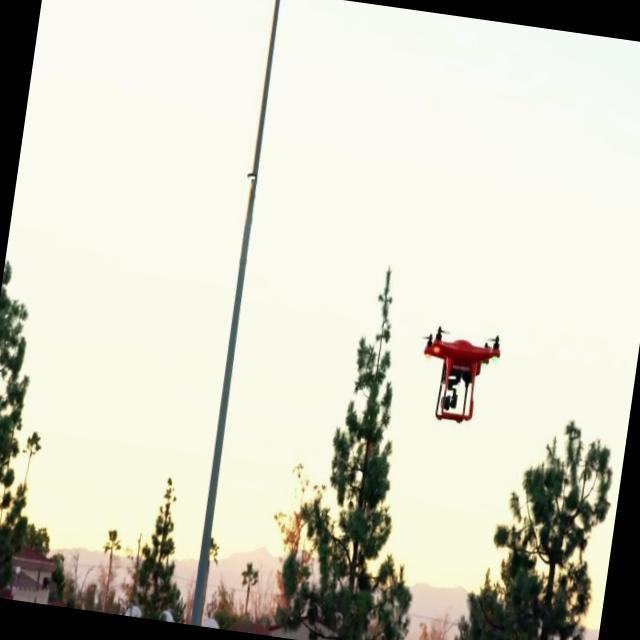drone: (412, 318, 506, 431)
